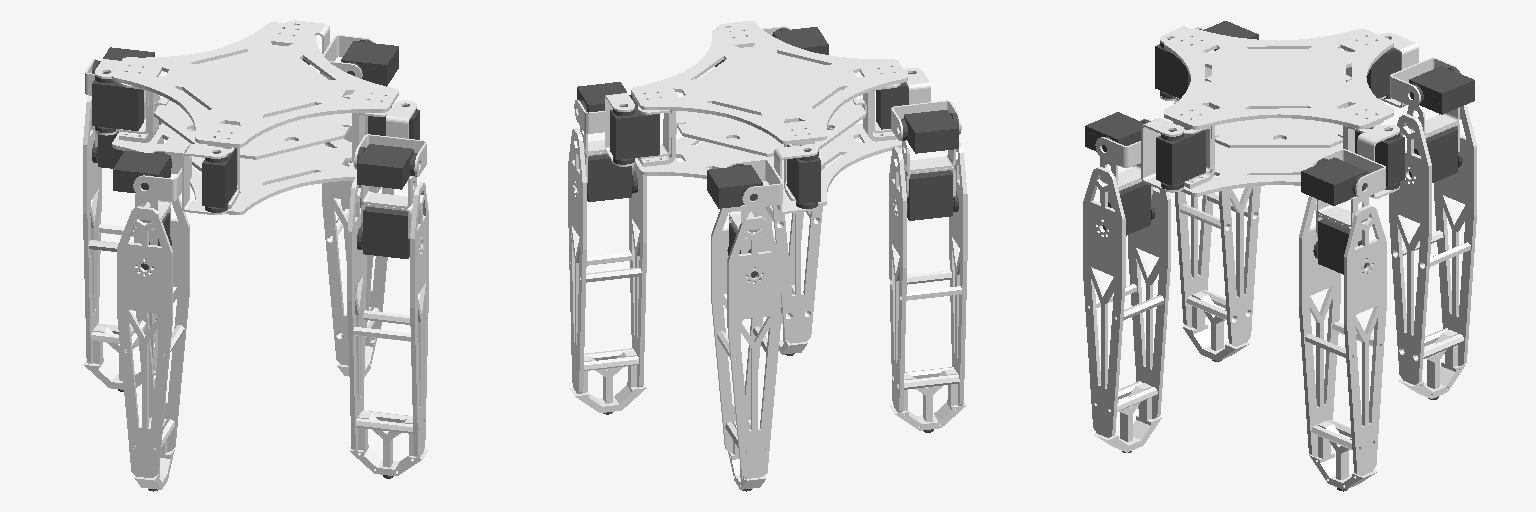
--- What the picture shows (computed from the rendered views, not written in the file) ---
Views: 3 orthographic renders of the robot side by side, from view 1: azimuth 30°, elevation 25°; view 2: azimuth 150°, elevation 25°; view 3: azimuth 270°, elevation 25°.
Robot: robot — 31 links, 30 joints (12 revolute, 18 fixed); root link base; default pose: every joint at zero.
Links seen in each view (by area): view 1: base, leg3_bar3, leg1_bar3, leg4_bar3, leg2_bar3, leg3_bar1, leg4_c1, leg1_c3, leg1_c2, leg1_bar1, leg2_c2, leg3_c1 (+7 smaller); view 2: base, leg4_bar3, leg3_bar3, leg2_bar3, leg1_bar3, leg2_c1, leg4_bar1, leg3_c3, leg3_c2, leg2_c3, leg4_c2, leg3_bar1 (+7 smaller); view 3: base, leg2_bar3, leg1_bar3, leg4_bar3, leg3_bar3, leg1_c1, leg1_bar1, leg2_c2, leg4_c2, leg2_bar1, leg4_bar1, leg1_c2 (+10 smaller).
Boxes of the visible links, x1,y1,x2,y2 form: base: [112, 22, 398, 214]; leg3_bar3: [117, 197, 189, 489]; leg1_bar3: [348, 176, 428, 475]; leg4_bar3: [83, 95, 163, 389]; leg2_bar3: [322, 94, 393, 377]; leg3_bar1: [133, 144, 227, 214]; leg4_c1: [92, 72, 143, 132]; leg1_c3: [357, 206, 409, 258]; leg1_c2: [357, 144, 417, 189]; leg1_bar1: [354, 100, 426, 176]; leg2_c2: [341, 40, 398, 86]; leg3_c1: [202, 148, 236, 212]; base: [631, 25, 907, 205]; leg4_bar3: [711, 208, 780, 489]; leg3_bar3: [889, 142, 967, 430]; leg2_bar3: [568, 128, 646, 412]; leg1_bar3: [763, 167, 824, 354]; leg2_c1: [610, 106, 659, 164]; leg4_bar1: [729, 145, 818, 213]; leg3_c3: [907, 170, 958, 220]; leg3_c2: [901, 110, 958, 153]; leg2_c3: [587, 154, 637, 201]; leg4_c2: [707, 164, 762, 208]; leg3_bar1: [891, 68, 961, 140]; base: [1164, 29, 1393, 196]; leg2_bar3: [1299, 196, 1386, 489]; leg1_bar3: [1083, 166, 1170, 452]; leg4_bar3: [1389, 105, 1476, 398]; leg3_bar3: [1173, 100, 1260, 361]; leg1_c1: [1156, 128, 1205, 189]; leg1_bar1: [1095, 118, 1183, 192]; leg2_c2: [1301, 157, 1367, 205]; leg4_c2: [1409, 66, 1474, 114]; leg2_bar1: [1313, 124, 1399, 198]; leg4_bar1: [1380, 33, 1462, 107]; leg1_c2: [1085, 112, 1148, 151].
Size in the robot's own frame: 0.3392 by 0.3392 by 0.3296 metres.
Meshes: 10 distinct files referenced, 29 mesh visuals loaded (8 binary STL); not drawn: 2 (reference not matched to a file when rendering).

The robot description file, URDF, robot "robot":
<?xml version="1.0"?>

<robot name="robot">

  <!-- Color of materials -->
  <material name="yellow">
    <color rgba="1 1 0 1"/>
  </material>
  <material name="blue">
    <color rgba="0 0 1 1"/>
  </material>
  <material name="red">
    <color rgba="1 0 0 1"/>
  </material>
  <material name="white">
    <color rgba="1 1 1 1"/>
  </material>
  <material name="grey">
    <color rgba="0.4 0.4 0.4 1"/>
  </material>
  <material name="green">
    <color rgba="0 1 0 1"/>
  </material>

  <!-- The base is declared -->

  <link name="base">
    <visual>
      <geometry>
        <mesh filename="package://simulation/meshes/Base.stl" scale="0.001 0.001 0.001"/>
      </geometry>
      <origin rpy="0 0 0" xyz="0 0 0.228"/>
      <material name="white" />
    </visual>
    <collision>
      <origin rpy="0 0 0" xyz="0 0 0.228"/>
      <geometry>
        <box size="0.145 0.145 0.05"/>
      </geometry>
    </collision>
    <inertial>
      <origin rpy="0 0 0" xyz="0 0 0.228"/>
      <mass value="1" />
      <inertia ixx="0.000588125" ixy="0.0" ixz="0.0" iyy="0.00105125" iyz="0.0" izz="0.000588125" />
    </inertial>
  </link>
  <gazebo reference="base">
    <material>Gazebo/White</material>
  </gazebo>

  <!-- Base fixed joints are assigned -->

  <joint name="base_leg1" type="fixed">
    <parent link="base"/>
    <child link="leg1_c1"/>
    <origin xyz="0.093 -0.093 0.225"/>
    <axis xyz="0 0 1" />
    <limit effort="300" velocity="2" lower="-1.57" upper="1.57"/>
  </joint>

  <joint name="base_leg2" type="fixed">
    <parent link="base"/>
    <child link="leg2_c1"/>
    <origin xyz="0.093 0.093 0.225"/>
    <axis xyz="0 0 1" />
    <limit effort="300" velocity="2" lower="-1.57" upper="1.57"/>
  </joint>

  <joint name="base_leg3" type="fixed">
    <parent link="base"/>
    <child link="leg3_c1"/>
    <origin xyz="-0.093 -0.093 0.225"/>
    <axis xyz="0 0 1" />
    <limit effort="300" velocity="2" lower="-1.57" upper="1.57"/>
  </joint>

  <joint name="base_leg4" type="fixed">
    <parent link="base"/>
    <child link="leg4_c1"/>
    <origin xyz="-0.093 0.093 0.225"/>
    <axis xyz="0 0 1" />
    <limit effort="300" velocity="2" lower="-1.57" upper="1.57"/>
  </joint>

  <!-- Base cylinders are created -->

  <link name="leg1_c1">
    <visual>
      <geometry>
        <mesh filename="package://simulation/meshes/Motor1.stl" scale="0.001 0.001 0.001"/>
      </geometry>
      <origin xyz="0 0 0" rpy="0 0 -0.785398"/>
      <material name="grey"/>
    </visual>
    <collision>
      <origin xyz="0 0 0" rpy="0 0 -0.785398"/>
      <geometry>
        <cylinder length="0.05" radius="0.02"/>
      </geometry>
    </collision>
    <inertial>
      <origin rpy="0 0 -0.785398" xyz="-0.008 0.008 0"/>
      <mass value="1" />
      <inertia ixx="2.0289e-4" ixy="0" ixz="0" iyy="2.0048e-4" iyz="0" izz="1.8752e-4" />
    </inertial>
  </link>
  <gazebo reference="leg1_c1">
    <material>Gazebo/Grey</material>
  </gazebo>

  <link name="leg2_c1">
    <visual>
      <geometry>
        <mesh filename="package://simulation/meshes/Motor1.stl" scale="0.001 0.001 0.001"/>
      </geometry>
      <origin xyz="0 0 0" rpy="0 0 0.785398"/>
      <material name="grey"/>
    </visual>
    <collision>
      <origin xyz="0 0 0" rpy="0 0 0.785398"/>
      <geometry>
        <cylinder length="0.05" radius="0.02"/>
      </geometry>
    </collision>
    <inertial>
      <origin rpy="0 0 0.785398" xyz="-0.008 -0.008 0"/>
      <mass value="0.061" />
      <inertia ixx="2.0289e-4" ixy="0" ixz="0" iyy="2.0048e-4" iyz="0" izz="1.8752e-4" />
    </inertial>
  </link>
  <gazebo reference="leg2_c1">
    <material>Gazebo/Grey</material>
  </gazebo>>

  <link name="leg3_c1">
    <visual>
      <geometry>
        <mesh filename="package://simulation/meshes/Motor1.stl" scale="0.001 0.001 0.001"/>
      </geometry>
      <origin xyz="0 0 0" rpy="0 0 -2.356102"/>
      <material name="grey"/>
    </visual>
    <collision>
      <origin xyz="0 0 0" rpy="0 0 -2.356102"/>
      <geometry>
        <cylinder length="0.05" radius="0.02"/>
      </geometry>
    </collision>
    <inertial>
      <origin rpy="0 0 0" xyz="0 0 0"/>
      <mass value="0.061" />
      <inertia ixx="2.0289e-5" ixy="0" ixz="0" iyy="2.0048e-5" iyz="0" izz="1.8752e-5" />
    </inertial>
  </link>
  <gazebo reference="leg3_c1">
    <material>Gazebo/Grey</material>
  </gazebo>

  <link name="leg4_c1">
    <visual>
      <geometry>
        <mesh filename="package://simulation/meshes/Motor1.stl" scale="0.001 0.001 0.001"/>
      </geometry>
      <origin xyz="0 0 0" rpy="0 0 2.356102"/>
      <material name="grey"/>
    </visual>
    <collision>
      <origin xyz="0 0 0" rpy="0 0 2.356102"/>
      <geometry>
        <cylinder length="0.05" radius="0.02"/>
      </geometry>
    </collision>
    <inertial>
      <origin rpy="0 0 0" xyz="0 0 0"/>
      <mass value="0.061" />
      <inertia ixx="2.0289e-5" ixy="0" ixz="0" iyy="2.0048e-5" iyz="0" izz="1.8752e-5" />
    </inertial>
  </link>
  <gazebo reference="leg4_c1">
    <material>Gazebo/Grey</material>
  </gazebo>

  <!-- Motor 1 are assigned -->

  <joint name="leg1_motor1" type="revolute">
    <parent link="leg1_c1"/>
    <child link="leg1_bar1"/>
    <origin xyz="0 0 0" rpy="0 0 -2.35619"/>
    <axis xyz="0 0 1" />
    <limit effort="300" velocity="2" lower="0" upper="3.1416"/>
    <dynamics damping="15" friction="3"/>
  </joint>

  <joint name="leg2_motor1" type="revolute">
    <parent link="leg2_c1"/>
    <child link="leg2_bar1"/>
    <origin xyz="0 0 0" rpy="0 0 -0.785398"/>
    <axis xyz="0 0 1" />
    <limit effort="300" velocity="2" lower="0" upper="3.1416"/>
    <dynamics damping="15" friction="3"/>
  </joint>

  <joint name="leg3_motor1" type="revolute">
    <parent link="leg3_c1"/>
    <child link="leg3_bar1"/>
    <origin xyz="0 0 0" rpy="0 0 2.35619"/>
    <axis xyz="0 0 1" />
    <limit effort="300" velocity="2" lower="0" upper="3.1416"/>
    <dynamics damping="15" friction="3"/>
  </joint>

  <joint name="leg4_motor1" type="revolute">
    <parent link="leg4_c1"/>
    <child link="leg4_bar1"/>
    <origin xyz="0 0 0" rpy="0 0 0.785398"/>
    <axis xyz="0 0 1" />
    <limit effort="300" velocity="2" lower="0" upper="3.1416"/>
    <dynamics damping="15" friction="3"/>
  </joint>

  <!-- First bars are assigned -->

  <link name="leg1_bar1">
    <visual>
      <geometry>
        <mesh filename="package://simulation/meshes/Vara1.stl" scale="0.001 0.001 0.001"/>
      </geometry>
      <origin rpy="0 1.57 0" xyz="0.0275 0 0"/>
      <material name="white" />
    </visual>
    <collision>
      <origin rpy="0 1.57 0" xyz="0.0275 0 0"/>
      <geometry>
        <cylinder length="0.055" radius="0.01"/>
      </geometry>
    </collision>
    <inertial>
      <origin rpy="0 0 0" xyz="0 0 0"/>
      <mass value="0.027" />
      <inertia ixx="0.000644294" ixy="0" ixz="0" iyy="0.000446702" iyz="0" izz="0.001002314" />
    </inertial>
  </link>
  <gazebo reference="leg1_bar1">
    <material>Gazebo/White</material>
  </gazebo>

  <link name="leg2_bar1">
    <visual>
      <geometry>
        <mesh filename="package://simulation/meshes/Vara1.stl" scale="0.001 0.001 0.001"/>
      </geometry>
      <origin rpy="0 1.57 0" xyz="0.0275 0 0"/>
      <material name="white" />
    </visual>
    <collision>
      <origin rpy="0 1.57 0" xyz="0.0275 0 0"/>
      <geometry>
        <cylinder length="0.055" radius="0.01"/>
      </geometry>
    </collision>
    <inertial>
      <origin rpy="0 0 0" xyz="0 0 0"/>
      <mass value="0.027" />
      <inertia ixx="0.000644294" ixy="0" ixz="0" iyy="0.000446702" iyz="0" izz="0.001002314" />
    </inertial>
  </link>
  <gazebo reference="leg2_bar1">
    <material>Gazebo/White</material>
  </gazebo>

  <link name="leg3_bar1">
    <visual>
      <geometry>
        <mesh filename="package://simulation/meshes/Vara1.stl" scale="0.001 0.001 0.001"/>
      </geometry>
      <origin rpy="0 1.57 0" xyz="0.0275 0 0"/>
      <material name="white" />
    </visual>
    <collision>
      <origin rpy="0 1.57 0" xyz="0.0275 0 0"/>
      <geometry>
        <cylinder length="0.055" radius="0.01"/>
      </geometry>
    </collision>
    <inertial>
      <origin rpy="0 0 0" xyz="0 0 0"/>
      <mass value="0.027" />
      <inertia ixx="0.000644294" ixy="0" ixz="0" iyy="0.000446702" iyz="0" izz="0.001002314" />
    </inertial>
  </link>
  <gazebo reference="leg3_bar1">
    <material>Gazebo/White</material>
  </gazebo>

  <link name="leg4_bar1">
    <visual>
      <geometry>
        <mesh filename="package://simulation/meshes/Vara1.stl" scale="0.001 0.001 0.001"/>
      </geometry>
      <origin rpy="0 1.57 0" xyz="0.0275 0 0"/>
      <material name="white" />
    </visual>
    <collision>
      <origin rpy="0 1.57 0" xyz="0.0275 0 0"/>
      <geometry>
        <cylinder length="0.055" radius="0.01"/>
      </geometry>
    </collision>
    <inertial>
      <origin rpy="0 0 0" xyz="0 0 0"/>
      <mass value="0.027" />
      <inertia ixx="0.000644294" ixy="0" ixz="0" iyy="0.000446702" iyz="0" izz="0.001002314" />
    </inertial>
  </link>
  <gazebo reference="leg4_bar1">
    <material>Gazebo/White</material>
  </gazebo>

  <!-- First bars fixed joints are assigned -->

  <joint name="leg1_bar1_fix" type="fixed">
    <parent link="leg1_bar1"/>
    <child link="leg1_c2"/>
    <origin xyz="0.055 0 0"/>
    <axis xyz="0 0 1" />
    <limit effort="300" velocity="2" lower="-1.57" upper="1.57"/>
  </joint>

  <joint name="leg2_bar1_fix" type="fixed">
    <parent link="leg2_bar1"/>
    <child link="leg2_c2"/>
    <origin xyz="0.055 0 0"/>
    <axis xyz="0 0 1" />
    <limit effort="300" velocity="2" lower="-1.57" upper="1.57"/>
  </joint>

  <joint name="leg3_bar1_fix" type="fixed">
    <parent link="leg3_bar1"/>
    <child link="leg3_c2"/>
    <origin xyz="0.055 0 0"/>
    <axis xyz="0 0 1" />
    <limit effort="300" velocity="2" lower="-1.57" upper="1.57"/>
  </joint>

  <joint name="leg4_bar1_fix" type="fixed">
    <parent link="leg4_bar1"/>
    <child link="leg4_c2"/>
    <origin xyz="0.055 0 0"/>
    <axis xyz="0 0 1" />
    <limit effort="300" velocity="2" lower="-1.57" upper="1.57"/>
  </joint>


  <!-- Second motor cylinders are created -->

  <link name="leg1_c2">
    <visual>
      <geometry>
        <mesh filename="package://simulation/meshes/Motor2.stl" scale="0.001 0.001 0.001"/>
      </geometry>
      <origin rpy="1.57 0 0" xyz="0 0 0"/>
      <material name="grey" />
    </visual>
    <collision>
      <origin rpy="1.57 0 0" xyz="0 0 0"/>
      <geometry>
        <cylinder length="0.05" radius="0.02"/>
      </geometry>
    </collision>
    <inertial>
      <origin rpy="0 0 0" xyz="0 0 0"/>
      <mass value="0.061" />
      <inertia ixx="2.0289e-5" ixy="0" ixz="0" iyy="2.0048e-5" iyz="0" izz="1.8752e-5" />
    </inertial>
  </link>
  <gazebo reference="leg1_c2">
    <material>Gazebo/Grey</material>
  </gazebo>

  <link name="leg2_c2">
    <visual>
      <geometry>
        <mesh filename="package://simulation/meshes/Motor2.stl" scale="0.001 0.001 0.001"/>
      </geometry>
      <origin rpy="1.57 0 0" xyz="0 0 0"/>
      <material name="grey" />
    </visual>
    <collision>
      <origin rpy="1.57 0 0" xyz="0 0 0"/>
      <geometry>
        <cylinder length="0.05" radius="0.02"/>
      </geometry>
    </collision>
    <inertial>
      <origin rpy="0 0 0" xyz="0 0 0"/>
      <mass value="0.061" />
      <inertia ixx="2.0289e-5" ixy="0" ixz="0" iyy="2.0048e-5" iyz="0" izz="1.8752e-5" />
    </inertial>
  </link>
  <gazebo reference="leg2_c2">
    <material>Gazebo/Grey</material>
  </gazebo>

  <link name="leg3_c2">
    <visual>
      <geometry>
        <mesh filename="package://simulation/meshes/Motor2.stl" scale="0.001 0.001 0.001"/>
      </geometry>
      <origin rpy="1.57 0 0" xyz="0 0 0"/>
      <material name="grey" />
    </visual>
    <collision>
      <origin rpy="1.57 0 0" xyz="0 0 0"/>
      <geometry>
        <cylinder length="0.05" radius="0.02"/>
      </geometry>
    </collision>
    <inertial>
      <origin rpy="0 0 0" xyz="0 0 0"/>
      <mass value="0.061" />
      <inertia ixx="2.0289e-5" ixy="0" ixz="0" iyy="2.0048e-5" iyz="0" izz="1.8752e-5" />
    </inertial>
  </link>
  <gazebo reference="leg3_c2">
    <material>Gazebo/Grey</material>
  </gazebo>

  <link name="leg4_c2">
    <visual>
      <geometry>
        <mesh filename="package://simulation/meshes/Motor2.stl" scale="0.001 0.001 0.001"/>
      </geometry>
      <origin rpy="1.57 0 0" xyz="0 0 0"/>
      <material name="grey" />
    </visual>
    <collision>
      <origin rpy="1.57 0 0" xyz="0 0 0"/>
      <geometry>
        <cylinder length="0.05" radius="0.02"/>
      </geometry>
    </collision>
    <inertial>
      <origin rpy="0 0 0" xyz="0 0 0"/>
      <mass value="0.061" />
      <inertia ixx="2.0289e-5" ixy="0" ixz="0" iyy="2.0048e-5" iyz="0" izz="1.8752e-5" />
    </inertial>
  </link>
  <gazebo reference="leg4_c2">
    <material>Gazebo/Grey</material>
  </gazebo>

  <!-- Motor 2 are assigned -->

  <joint name="leg1_motor2" type="revolute">
    <parent link="leg1_c2"/>
    <child link="leg1_bar2"/>
    <origin xyz="0 0 0" rpy="0 0 0"/>
    <axis xyz="0 -1 0" />
    <limit effort="300" velocity="2" lower="0" upper="3.1416"/>
    <dynamics damping="15" friction="3"/>
  </joint>

  <joint name="leg2_motor2" type="revolute">
    <parent link="leg2_c2"/>
    <child link="leg2_bar2"/>
    <origin xyz="0 0 0" rpy="0 0 0"/>
    <axis xyz="0 -1 0" />
    <limit effort="300" velocity="2" lower="0" upper="3.1416"/>
    <dynamics damping="15" friction="3"/>
  </joint>

  <joint name="leg3_motor2" type="revolute">
    <parent link="leg3_c2"/>
    <child link="leg3_bar2"/>
    <origin xyz="0 0 0" rpy="0 0 0"/>
    <axis xyz="0 -1 0" />
    <limit effort="300" velocity="2" lower="0" upper="3.1416"/>
    <dynamics damping="15" friction="3"/>
  </joint>

  <joint name="leg4_motor2" type="revolute">
    <parent link="leg4_c2"/>
    <child link="leg4_bar2"/>
    <origin xyz="0 0 0" rpy="0 0 0"/>
    <axis xyz="0 -1 0" />
    <limit effort="300" velocity="2" lower="0" upper="3.1416"/>
    <dynamics damping="15" friction="3"/>
  </joint>

  <!-- Second bars are assigned -->

  <link name="leg1_bar2">
    <visual>
      <geometry>
        <mesh filename="package://simulation/meshes/Vara2.stl" scale="0.001 0.001 0.001"/>
      </geometry>
      <origin rpy="0 0 0" xyz="0 0 -0.0375"/>
      <material name="white" />
    </visual>
    <collision>
      <origin rpy="0 0 0" xyz="0 0 -0.0375"/>
      <geometry>
        <cylinder length="0.075" radius="0.01"/>
      </geometry>
    </collision>
    <inertial>
      <origin rpy="0 0 0" xyz="0 0 0"/>
      <mass value="0.0214" />
      <inertia ixx="0.000324045" ixy="0" ixz="0" iyy="0.000180021" iyz="0" izz="0.000355567" />
    </inertial>
  </link>
  <gazebo reference="leg1_bar2">
    <material>Gazebo/White</material>
  </gazebo>

  <link name="leg2_bar2">
    <visual>
      <geometry>
        <mesh filename="package://simulation/meshes/Vara2.stl" scale="0.001 0.001 0.001"/>
      </geometry>
      <origin rpy="0 0 0" xyz="0 0 -0.0375"/>
      <material name="white" />
    </visual>
    <collision>
      <origin rpy="0 0 0" xyz="0 0 -0.0375"/>
      <geometry>
        <cylinder length="0.075" radius="0.01"/>
      </geometry>
    </collision>
    <inertial>
      <origin rpy="0 0 0" xyz="0 0 0"/>
      <mass value="0.0214" />
      <inertia ixx="0.000324045" ixy="0" ixz="0" iyy="0.000180021" iyz="0" izz="0.000355567" />
    </inertial>
  </link>
  <gazebo reference="leg2_bar2">
    <material>Gazebo/White</material>
  </gazebo>

  <link name="leg3_bar2">
    <visual>
      <geometry>
        <mesh filename="package://simulation/meshes/Vara2.stl" scale="0.001 0.001 0.001"/>
      </geometry>
      <origin rpy="0 0 0" xyz="0 0 -0.0375"/>
      <material name="white" />
    </visual>
    <collision>
      <origin rpy="0 0 0" xyz="0 0 -0.0375"/>
      <geometry>
        <cylinder length="0.075" radius="0.01"/>
      </geometry>
    </collision>
    <inertial>
      <origin rpy="0 0 0" xyz="0 0 0"/>
      <mass value="0.0214" />
      <inertia ixx="0.000324045" ixy="0" ixz="0" iyy="0.000180021" iyz="0" izz="0.000355567" />
    </inertial>
  </link>
  <gazebo reference="leg3_bar2">
    <material>Gazebo/White</material>
  </gazebo>

  <link name="leg4_bar2">
    <visual>
      <geometry>
        <mesh filename="package://simulation/meshes/Vara2.stl" scale="0.001 0.001 0.001"/>
      </geometry>
      <origin rpy="0 0 0" xyz="0 0 -0.0375"/>
      <material name="white" />
    </visual>
    <collision>
      <origin rpy="0 0 0" xyz="0 0 -0.0375"/>
      <geometry>
        <cylinder length="0.075" radius="0.01"/>
      </geometry>
    </collision>
    <inertial>
      <origin rpy="0 0 0" xyz="0 0 0"/>
      <mass value="0.0214" />
      <inertia ixx="0.000324045" ixy="0" ixz="0" iyy="0.000180021" iyz="0" izz="0.000355567" />
    </inertial>
  </link>
  <gazebo reference="leg4_bar2">
    <material>Gazebo/White</material>
  </gazebo>

  <!-- Second bars fixed joints are assigned -->

  <joint name="leg1_bar2_fix" type="fixed">
    <parent link="leg1_bar2"/>
    <child link="leg1_c3"/>
    <origin xyz="0 0 -0.075"/>
    <axis xyz="0 0 1" />
    <limit effort="300" velocity="2" lower="-1.57" upper="1.57"/>
  </joint>

  <joint name="leg2_bar2_fix" type="fixed">
    <parent link="leg2_bar2"/>
    <child link="leg2_c3"/>
    <origin xyz="0 0 -0.075"/>
    <axis xyz="0 0 1" />
    <limit effort="300" velocity="2" lower="-1.57" upper="1.57"/>
  </joint>

  <joint name="leg3_bar2_fix" type="fixed">
    <parent link="leg3_bar2"/>
    <child link="leg3_c3"/>
    <origin xyz="0 0 -0.075"/>
    <axis xyz="0 0 1" />
    <limit effort="300" velocity="2" lower="-1.57" upper="1.57"/>
  </joint>

  <joint name="leg4_bar2_fix" type="fixed">
    <parent link="leg4_bar2"/>
    <child link="leg4_c3"/>
    <origin xyz="0 0 -0.075"/>
    <axis xyz="0 0 1" />
    <limit effort="300" velocity="2" lower="-1.57" upper="1.57"/>
  </joint>

  <!-- Motor 3 cylinders are assigned -->

  <link name="leg1_c3">
    <visual>
      <geometry>
        <mesh filename="package://simulation/meshes/Motor3.stl" scale="0.001 0.001 0.001"/>
      </geometry>
      <origin rpy="1.57 0 0" xyz="0 0 0"/>
      <material name="grey" />
    </visual>
    <collision>
      <origin rpy="1.57 0 0" xyz="0 0 0"/>
      <geometry>
        <cylinder length="0.05" radius="0.02"/>
      </geometry>
    </collision>
    <inertial>
      <origin rpy="0 0 0" xyz="0 0 0"/>
      <mass value="0.061" />
      <inertia ixx="2.0289e-5" ixy="0" ixz="0" iyy="2.0048e-5" iyz="0" izz="1.8752e-5" />
    </inertial>
  </link>
  <gazebo reference="leg1_c3">
    <material>Gazebo/Grey</material>
  </gazebo>

  <link name="leg2_c3">
    <visual>
      <geometry>
        <mesh filename="package://simulation/meshes/Motor3.stl" scale="0.001 0.001 0.001"/>
      </geometry>
      <origin rpy="1.57 0 0" xyz="0 0 0"/>
      <material name="grey" />
    </visual>
    <collision>
      <origin rpy="1.57 0 0" xyz="0 0 0"/>
      <geometry>
        <cylinder length="0.05" radius="0.02"/>
      </geometry>
    </collision>
    <inertial>
      <origin rpy="0 0 0" xyz="0 0 0"/>
      <mass value="0.061" />
      <inertia ixx="2.0289e-5" ixy="0" ixz="0" iyy="2.0048e-5" iyz="0" izz="1.8752e-5" />
    </inertial>
  </link>
  <gazebo reference="leg2_c3">
    <material>Gazebo/Grey</material>
  </gazebo>

  <link name="leg3_c3">
    <visual>
      <geometry>
        <mesh filename="package://simulation/meshes/Motor3.stl" scale="0.001 0.001 0.001"/>
      </geometry>
      <origin rpy="1.57 0 0" xyz="0 0 0"/>
      <material name="grey" />
    </visual>
    <collision>
      <origin rpy="1.57 0 0" xyz="0 0 0"/>
      <geometry>
        <cylinder length="0.05" radius="0.02"/>
      </geometry>
    </collision>
    <inertial>
      <origin rpy="0 0 0" xyz="0 0 0"/>
      <mass value="0.061" />
      <inertia ixx="2.0289e-5" ixy="0" ixz="0" iyy="2.0048e-5" iyz="0" izz="1.8752e-5" />
    </inertial>
  </link>
  <gazebo reference="leg3_c3">
    <material>Gazebo/Grey</material>
  </gazebo>

  <link name="leg4_c3">
    <visual>
      <geometry>
        <mesh filename="package://simulation/meshes/Motor3.stl" scale="0.001 0.001 0.001"/>
      </geometry>
      <origin rpy="1.57 0 0" xyz="0 0 0"/>
      <material name="grey" />
    </visual>
    <collision>
      <origin rpy="1.57 0 0" xyz="0 0 0"/>
      <geometry>
        <cylinder length="0.05" radius="0.02"/>
      </geometry>
    </collision>
    <inertial>
      <origin rpy="0 0 0" xyz="0 0 0"/>
      <mass value="0.061" />
      <inertia ixx="2.0289e-5" ixy="0" ixz="0" iyy="2.0048e-5" iyz="0" izz="1.8752e-5" />
    </inertial>
  </link>
  <gazebo reference="leg4_c3">
    <material>Gazebo/Grey</material>
  </gazebo>

  <!-- Motor 3 are assigned -->

  <joint name="leg1_motor3" type="revolute">
    <parent link="leg1_c3"/>
    <child link="leg1_bar3"/>
    <origin xyz="0 0 0"/>
    <axis xyz="0 1 0" />
    <limit effort="300" velocity="2" lower="0" upper="3.1416"/>
    <dynamics damping="15" friction="3"/>
    <sensor name="force_torque" type="force_torque">
      <update_rate>30</update_rate>
    </sensor>
  </joint>

  <joint name="leg2_motor3" type="revolute">
    <parent link="leg2_c3"/>
    <child link="leg2_bar3"/>
    <origin xyz="0 0 0"/>
    <axis xyz="0 1 0" />
    <limit effort="300" velocity="2" lower="0" upper="3.1416"/>
    <dynamics damping="15" friction="3"/>
    <sensor name="force_torque" type="force_torque">
      <update_rate>30</update_rate>
    </sensor>
  </joint>

  <joint name="leg3_motor3" type="revolute">
    <parent link="leg3_c3"/>
    <child link="leg3_bar3"/>
    <origin xyz="0 0 0"/>
    <axis xyz="0 1 0" />
    <limit effort="300" velocity="2" lower="0" upper="3.1416"/>
    <dynamics damping="15" friction="3"/>
    <sensor name="force_torque" type="force_torque">
      <update_rate>30</update_rate>
    </sensor>
  </joint>

  <joint name="leg4_motor3" type="revolute">
    <parent link="leg4_c3"/>
    <child link="leg4_bar3"/>
    <origin xyz="0 0 0"/>
    <axis xyz="0 1 0" />
    <limit effort="300" velocity="2" lower="0" upper="3.1416"/>
    <dynamics damping="15" friction="3"/>
    <sensor name="force_torque" type="force_torque">
      <update_rate>30</update_rate>
    </sensor>
  </joint>

  <!-- Third bars are assigned -->

  <link name="leg1_bar3">
    <visual>
      <geometry>
        <mesh filename="package://simulation/meshes/Leg.stl" scale="0.001 0.001 0.001"/>
      </geometry>
      <origin rpy="0 0 0" xyz="0 0 0"/>
      <material name="white" />
    </visual>
    <collision>
      <origin rpy="0 0 0" xyz="0 0 -0.1"/>
      <geometry>
        <cylinder length="0.225" radius="0.023"/>
      </geometry>
    </collision>
    <inertial>
      <origin rpy="0 0 0" xyz="0 0 -0.095924"/>
      <mass value="0.1118" />
      <inertia ixx="0.001947133" ixy="0" ixz="0" iyy="0.001408573" iyz="0" izz="0.000804606" />
    </inertial>
  </link>
  <gazebo reference="leg1_bar3">
    <material>Gazebo/White</material>
  </gazebo>

  <link name="leg2_bar3">
    <visual>
      <geometry>
        <mesh filename="package://simulation/meshes/Leg.stl" scale="0.001 0.001 0.001"/>
      </geometry>
      <origin rpy="0 0 0" xyz="0 0 0"/>
      <material name="white" />
    </visual>
    <collision>
      <origin rpy="0 0 0" xyz="0 0 -0.1"/>
      <geometry>
        <cylinder length="0.225" radius="0.023"/>
      </geometry>
    </collision>
    <inertial>
      <origin rpy="0 0 0" xyz="0 0 -0.095924"/>
      <mass value="0.1118" />
      <inertia ixx="0.001947133" ixy="0" ixz="0" iyy="0.001408573" iyz="0" izz="0.000804606" />
    </inertial>
  </link>
  <gazebo reference="leg2_bar3">
    <material>Gazebo/White</material>
  </gazebo>

  <link name="leg3_bar3">
    <visual>
      <geometry>
        <mesh filename="package://simulation/meshes/Leg.stl" scale="0.001 0.001 0.001"/>
      </geometry>
      <origin rpy="0 0 0" xyz="0 0 0"/>
      <material name="white" />
    </visual>
    <collision>
      <origin rpy="0 0 0" xyz="0 0 -0.1"/>
      <geometry>
        <cylinder length="0.225" radius="0.023"/>
      </geometry>
    </collision>
    <inertial>
      <origin rpy="0 0 0" xyz="0 0 -0.095924"/>
      <mass value="0.1118" />
      <inertia ixx="0.001947133" ixy="0" ixz="0" iyy="0.001408573" iyz="0" izz="0.000804606" />
    </inertial>
  </link>
  <gazebo reference="leg3_bar3">
    <material>Gazebo/White</material>
  </gazebo>

  <link name="leg4_bar3">
    <visual>
      <geometry>
        <mesh filename="package://simulation/meshes/Leg.stl" scale="0.001 0.001 0.001"/>
      </geometry>
      <origin rpy="0 0 0" xyz="0 0 0"/>
      <material name="white" />
    </visual>
    <collision>
      <origin rpy="0 0 0" xyz="0 0 -0.1"/>
      <geometry>
        <cylinder length="0.225" radius="0.023"/>
      </geometry>
    </collision>
    <inertial>
      <origin rpy="0 0 0" xyz="0 0 -0.095924"/>
      <mass value="0.1118" />
      <inertia ixx="0.001947133" ixy="0" ixz="0" iyy="0.001408573" iyz="0" izz="0.000804606" />
    </inertial>
  </link>
  <gazebo reference="leg4_bar3">
    <material>Gazebo/White</material>
  </gazebo>

  <!-- Third bars fixes are assigned -->

  <joint name="leg1_bar3_fix" type="fixed">
    <parent link="leg1_bar3"/>
    <child link="leg1_end"/>
    <origin xyz="0 0 -0.216284"/>
    <axis xyz="0 0 1" />
    <limit effort="300" velocity="2" lower="-1.57" upper="1.57"/>
  </joint>

  <joint name="leg2_bar3_fix" type="fixed">
    <parent link="leg2_bar3"/>
    <child link="leg2_end"/>
    <origin xyz="0 0 -0.216284"/>
    <axis xyz="0 0 1" />
    <limit effort="300" velocity="2" lower="-1.57" upper="1.57"/>
  </joint>

  <joint name="leg3_bar3_fix" type="fixed">
    <parent link="leg3_bar3"/>
    <child link="leg3_end"/>
    <origin xyz="0 0 -0.216284"/>
    <axis xyz="0 0 1" />
    <limit effort="300" velocity="2" lower="-1.57" upper="1.57"/>
  </joint>

  <joint name="leg4_bar3_fix" type="fixed">
    <parent link="leg4_bar3"/>
    <child link="leg4_end"/>
    <origin xyz="0 0 -0.216284"/>
    <axis xyz="0 0 1" />
    <limit effort="300" velocity="2" lower="-1.57" upper="1.57"/>
  </joint>

  <!-- End effectors are assigned -->

  <link name="leg1_end">
    <visual>
      <geometry>
        <mesh filename="package://simulation/meshes/Foot.stl" scale="0.001 0.001 0.001"/>
      </geometry>
      <origin rpy="0 0 0" xyz="0 0 0"/>
      <material name="grey" />
    </visual>
    <collision>
      <origin rpy="0 0 0" xyz="0 0 0"/>
      <geometry>
        <cylinder length="0.0075" radius="0.005"/>
      </geometry>
      <surface>
        <friction>
          <ode>
            <mu>0.8</mu>
            <mu2>0.8</mu2>
          </ode>
        </friction>
      </surface>
    </collision>
    <inertial>
      <origin rpy="0 0 0" xyz="0 0 0"/>
      <mass value="0.004" />
      <inertia ixx="4.375e-8" ixy="0" ixz="0" iyy="4.375e-8" iyz="0" izz="5e-8" />
    </inertial>
  </link>
  <gazebo reference="leg1_end">
    <material>Gazebo/White</material>
  </gazebo>

  <link name="leg2_end">
    <visual>
      <geometry>
        <mesh filename="package://simulation/meshes/Foot.stl" scale="0.001 0.001 0.001"/>
      </geometry>
      <origin rpy="0 0 0" xyz="0 0 0"/>
      <material name="grey" />
    </visual>
    <collision>
      <origin rpy="0 0 0" xyz="0 0 0"/>
      <geometry>
        <cylinder length="0.0075" radius="0.005"/>
      </geometry>
      <surface>
        <friction>
          <ode>
            <mu>0.8</mu>
            <mu2>0.8</mu2>
          </ode>
        </friction>
      </surface>
    </collision>
    <inertial>
      <origin rpy="0 0 0" xyz="0 0 0"/>
      <mass value="0.004" />
      <inertia ixx="4.375e-8" ixy="0" ixz="0" iyy="4.375e-8" iyz="0" izz="5e-8" />
    </inertial>
  </link>
  <gazebo reference="leg2_end">
    <material>Gazebo/White</material>
  </gazebo>

  <link name="leg3_end">
    <visual>
      <geometry>
        <mesh filename="package://simulation/meshes/Foot.stl" scale="0.001 0.001 0.001"/>
      </geometry>
      <origin rpy="0 0 0" xyz="0 0 0"/>
      <material name="grey" />
    </visual>
    <collision>
      <origin rpy="0 0 0" xyz="0 0 0"/>
      <geometry>
        <cylinder length="0.0075" radius="0.005"/>
      </geometry>
      <surface>
        <friction>
          <ode>
            <mu>0.8</mu>
            <mu2>0.8</mu2>
          </ode>
        </friction>
      </surface>
    </collision>
    <inertial>
      <origin rpy="0 0 0" xyz="0 0 0"/>
      <mass value="0.004" />
      <inertia ixx="4.375e-8" ixy="0" ixz="0" iyy="4.375e-8" iyz="0" izz="5e-8" />
    </inertial>
  </link>
  <gazebo reference="leg3_end">
    <material>Gazebo/White</material>
  </gazebo>

  <link name="leg4_end">
    <visual>
      <geometry>
        <mesh filename="package://simulation/meshes/Foot.stl" scale="0.001 0.001 0.001"/>
      </geometry>
      <origin rpy="0 0 0" xyz="0 0 0"/>
      <material name="grey" />
    </visual>
    <collision>
      <origin rpy="0 0 0" xyz="0 0 0"/>
      <geometry>
        <cylinder length="0.0075" radius="0.005"/>
      </geometry>
      <surface>
        <friction>
          <ode>
            <mu>0.8</mu>
            <mu2>0.8</mu2>
          </ode>
        </friction>
      </surface>
    </collision>
    <inertial>
      <origin rpy="0 0 0" xyz="0 0 0"/>
      <mass value="0.004" />
      <inertia ixx="4.375e-8" ixy="0" ixz="0" iyy="4.375e-8" iyz="0" izz="5e-8" />
    </inertial>
  </link>
  <gazebo reference="leg4_end">
    <material>Gazebo/White</material>
  </gazebo>

  <joint name="hokuyo_joint" type="fixed">
    <axis xyz="0 1 0" />
    <origin xyz="0 0 0.288" rpy="0 0 0"/>
    <parent link="base"/>
    <child link="hokuyo"/>
  </joint>

  <!-- Hokuyo Laser -->
  <link name="hokuyo">
    <collision>
      <origin xyz="0 0 0" rpy="0 0 0"/>
      <geometry>
    <box size="0.06 0.06 0.06"/>
      </geometry>
    </collision>

    <visual>
      <origin xyz="0 0 0" rpy="0 0 0"/>
      <geometry>
        <mesh filename="package://simulation/meshes/hokuyo.dae"/>
      </geometry>
    </visual>

    <inertial>
      <mass value="1e-5" />
      <origin xyz="0 0 0" rpy="0 0 0"/>
      <inertia ixx="1e-6" ixy="0" ixz="0" iyy="1e-6" iyz="0" izz="1e-6" />
    </inertial>
  </link>


  <!-- hokuyo -->
  <gazebo reference="hokuyo">
    <sensor type="ray" name="head_hokuyo_sensor">
      <pose>0 0 0 0 0 0</pose>
      <visualize>false</visualize>
      <update_rate>10</update_rate>
      <ray>
        <scan>
          <horizontal>
            <samples>720</samples>
            <resolution>1</resolution>
            <min_angle>-1.5708</min_angle>
            <max_angle>1.5708</max_angle>
          </horizontal>
        </scan>
        <range>
          <min>0.10</min>
          <max>12.0</max>
          <resolution>0.01</resolution>
        </range>
        <noise>
          <type>gaussian</type>
          <!-- Noise parameters based on published spec for Hokuyo laser
               achieving "+-30mm" accuracy at range < 10m.  A mean of 0.0m and
               stddev of 0.01m will put 99.7% of samples within 0.03m of the true
               reading. -->
          <mean>0.0</mean>
          <stddev>0.01</stddev>
        </noise>
      </ray>
      <plugin name="gazebo_ros_head_hokuyo_controller" filename="libgazebo_ros_laser.so">
        <topicName>/scan</topicName>
        <frameName>hokuyo</frameName>
      </plugin>
    </sensor>
  </gazebo>


  <link name="camera_link">
    <collision>
      <origin xyz="0 0 0" rpy="0 0 0"/>
      <geometry>
        <box size="0.005 0.04 0.04"/>
      </geometry>
    </collision>

    <visual>
      <origin xyz="0 0 0" rpy="1.5708 0 1.5708"/>
      <geometry>
        <mesh filename="package://simulation/meshes/Camera.stl" scale="0.001 0.001 0.001"/>
      </geometry>
      <material name="green"/>
    </visual>

    <inertial>
      <mass value="0.01" />
      <origin xyz="0 0 0" rpy="0 0 0"/>
      <box_inertia m="0.01" x="0.005" y="0.04" z="0.04" />
      <inertia ixx="1e-6" ixy="0" ixz="0" iyy="1e-6" iyz="0" izz="1e-6" />
    </inertial>
  </link>
  <gazebo reference="camera_link">
    <material>Gazebo/Green</material>
  </gazebo>

  <joint name="camera_joint" type="fixed">
    <axis xyz="0 1 0" />
    <origin xyz=".08 0 0.228" rpy="0 0 0"/>
    <parent link="base"/>
    <child link="camera_link"/>
  </joint>

  <gazebo reference="camera_link">
    <sensor type="camera" name="camera1">
      <update_rate>30.0</update_rate>
      <camera name="head">
        <horizontal_fov>1.3962634</horizontal_fov>
        <image>
          <width>800</width>
          <height>800</height>
          <format>R8G8B8</format>
        </image>
        <clip>
          <near>0.02</near>
          <far>300</far>
        </clip>
        <noise>
          <type>gaussian</type>
          <!-- Noise is sampled independently per pixel on each frame.  
               That pixel's noise value is added to each of its color
               channels, which at that point lie in the range [0,1]. -->
          <mean>0.0</mean>
          <stddev>0.007</stddev>
        </noise>
      </camera>
      <plugin name="camera_controller" filename="libgazebo_ros_camera.so">
        <alwaysOn>true</alwaysOn>
        <updateRate>0.0</updateRate>
        <cameraName>charly/camera1</cameraName>
        <imageTopicName>image_raw</imageTopicName>
        <cameraInfoTopicName>camera_info</cameraInfoTopicName>
        <frameName>camera_link</frameName>
        <hackBaseline>0.07</hackBaseline>
        <distortionK1>0.0</distortionK1>
        <distortionK2>0.0</distortionK2>
        <distortionK3>0.0</distortionK3>
        <distortionT1>0.0</distortionT1>
        <distortionT2>0.0</distortionT2>
      </plugin>
    </sensor>
  </gazebo>


  <!-- Transmissions -->
  <transmission name="tran1">
    <type>transmission_interface/SimpleTransmission</type>
    <joint name="leg1_motor1">
      <hardwareInterface>hardware_interface/EffortJointInterface</hardwareInterface>
    </joint>
    <actuator name="leg1_servo1">
      <hardwareInterface>hardware_interface/EffortJointInterface</hardwareInterface>
      <mechanicalReduction>1</mechanicalReduction>
    </actuator>
  </transmission>

  <transmission name="tran2">
    <type>transmission_interface/SimpleTransmission</type>
    <joint name="leg1_motor2">
      <hardwareInterface>hardware_interface/EffortJointInterface</hardwareInterface>
    </joint>
    <actuator name="leg1_servo2">
      <hardwareInterface>hardware_interface/EffortJointInterface</hardwareInterface>
      <mechanicalReduction>1</mechanicalReduction>
    </actuator>
  </transmission>

  <transmission name="tran3">
    <type>transmission_interface/SimpleTransmission</type>
    <joint name="leg1_motor3">
      <hardwareInterface>hardware_interface/EffortJointInterface</hardwareInterface>
    </joint>
    <actuator name="leg1_servo3">
      <hardwareInterface>hardware_interface/EffortJointInterface</hardwareInterface>
      <mechanicalReduction>1</mechanicalReduction>
    </actuator>
  </transmission>

  <transmission name="tran4">
    <type>transmission_interface/SimpleTransmission</type>
    <joint name="leg2_motor1">
      <hardwareInterface>hardware_interface/EffortJointInterface</hardwareInterface>
    </joint>
    <actuator name="leg2_servo1">
      <hardwareInterface>hardware_interface/EffortJointInterface</hardwareInterface>
      <mechanicalReduction>1</mechanicalReduction>
    </actuator>
  </transmission>

  <transmission name="tran5">
    <type>transmission_interface/SimpleTransmission</type>
    <joint name="leg2_motor2">
      <hardwareInterface>hardware_interface/EffortJointInterface</hardwareInterface>
    </joint>
    <actuator name="leg2_servo2">
      <hardwareInterface>hardware_interface/EffortJointInterface</hardwareInterface>
      <mechanicalReduction>1</mechanicalReduction>
    </actuator>
  </transmission>

  <transmission name="tran6">
    <type>transmission_interface/SimpleTransmission</type>
    <joint name="leg2_motor3">
      <hardwareInterface>hardware_interface/EffortJointInterface</hardwareInterface>
    </joint>
    <actuator name="leg2_servo3">
      <hardwareInterface>hardware_interface/EffortJointInterface</hardwareInterface>
      <mechanicalReduction>1</mechanicalReduction>
    </actuator>
  </transmission>

  <transmission name="tran7">
    <type>transmission_interface/SimpleTransmission</type>
    <joint name="leg3_motor1">
      <hardwareInterface>hardware_interface/EffortJointInterface</hardwareInterface>
    </joint>
    <actuator name="leg3_servo1">
      <hardwareInterface>hardware_interface/EffortJointInterface</hardwareInterface>
      <mechanicalReduction>1</mechanicalReduction>
    </actuator>
  </transmission>

  <transmission name="tran8">
    <type>transmission_interface/SimpleTransmission</type>
    <joint name="leg3_motor2">
      <hardwareInterface>hardware_interface/EffortJointInterface</hardwareInterface>
    </joint>
    <actuator name="leg3_servo2">
      <hardwareInterface>hardware_interface/EffortJointInterface</hardwareInterface>
      <mechanicalReduction>1</mechanicalReduction>
    </actuator>
  </transmission>

  <transmission name="tran9">
    <type>transmission_interface/SimpleTransmission</type>
    <joint name="leg3_motor3">
      <hardwareInterface>hardware_interface/EffortJointInterface</hardwareInterface>
    </joint>
    <actuator name="leg3_servo3">
      <hardwareInterface>hardware_interface/EffortJointInterface</hardwareInterface>
      <mechanicalReduction>1</mechanicalReduction>
    </actuator>
  </transmission>

  <transmission name="tran10">
    <type>transmission_interface/SimpleTransmission</type>
    <joint name="leg4_motor1">
      <hardwareInterface>hardware_interface/EffortJointInterface</hardwareInterface>
    </joint>
    <actuator name="leg4_servo1">
      <hardwareInterface>hardware_interface/EffortJointInterface</hardwareInterface>
      <mechanicalReduction>1</mechanicalReduction>
    </actuator>
  </transmission>

  <transmission name="tran11">
    <type>transmission_interface/SimpleTransmission</type>
    <joint name="leg4_motor2">
      <hardwareInterface>hardware_interface/EffortJointInterface</hardwareInterface>
    </joint>
    <actuator name="leg4_servo2">
      <hardwareInterface>hardware_interface/EffortJointInterface</hardwareInterface>
      <mechanicalReduction>1</mechanicalReduction>
    </actuator>
  </transmission>

  <transmission name="tran12">
    <type>transmission_interface/SimpleTransmission</type>
    <joint name="leg4_motor3">
      <hardwareInterface>hardware_interface/EffortJointInterface</hardwareInterface>
    </joint>
    <actuator name="leg4_servo3">
      <hardwareInterface>hardware_interface/EffortJointInterface</hardwareInterface>
      <mechanicalReduction>1</mechanicalReduction>
    </actuator>
  </transmission>
  

   <!-- Plugin: ros_control -->
   <gazebo>
     <plugin name="gazebo_ros_control" filename="libgazebo_ros_control.so">
       <robotNamespace>/robot</robotNamespace>
       <legacyModeNS>true</legacyModeNS>
     </plugin>
   </gazebo>

</robot>
